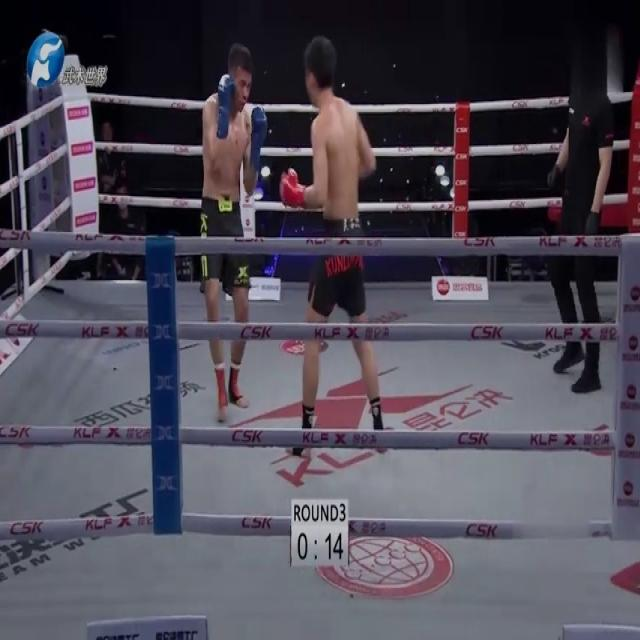fight: (191, 35, 381, 442)
non-fight: (539, 42, 616, 397)
